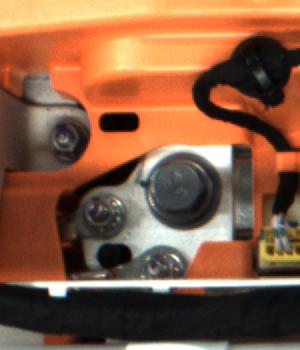nut_b: (140, 152, 227, 230)
screw_s: (82, 195, 127, 233), (43, 114, 82, 157), (141, 249, 180, 276)
